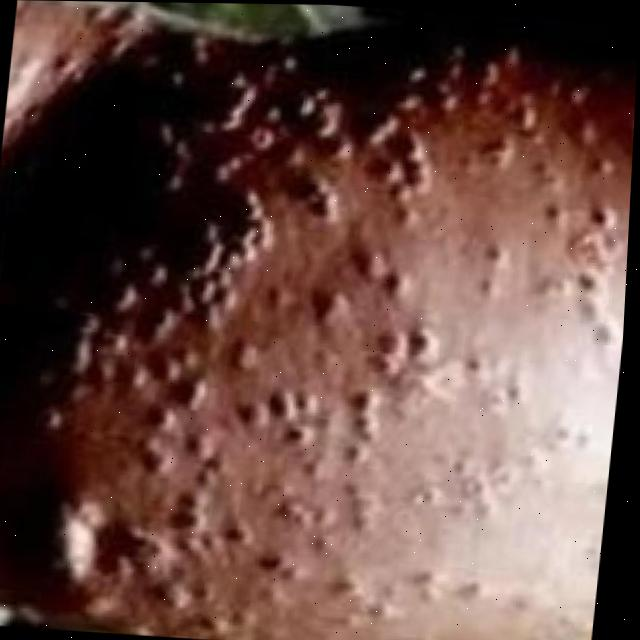Eczema: (1, 89, 578, 640)
